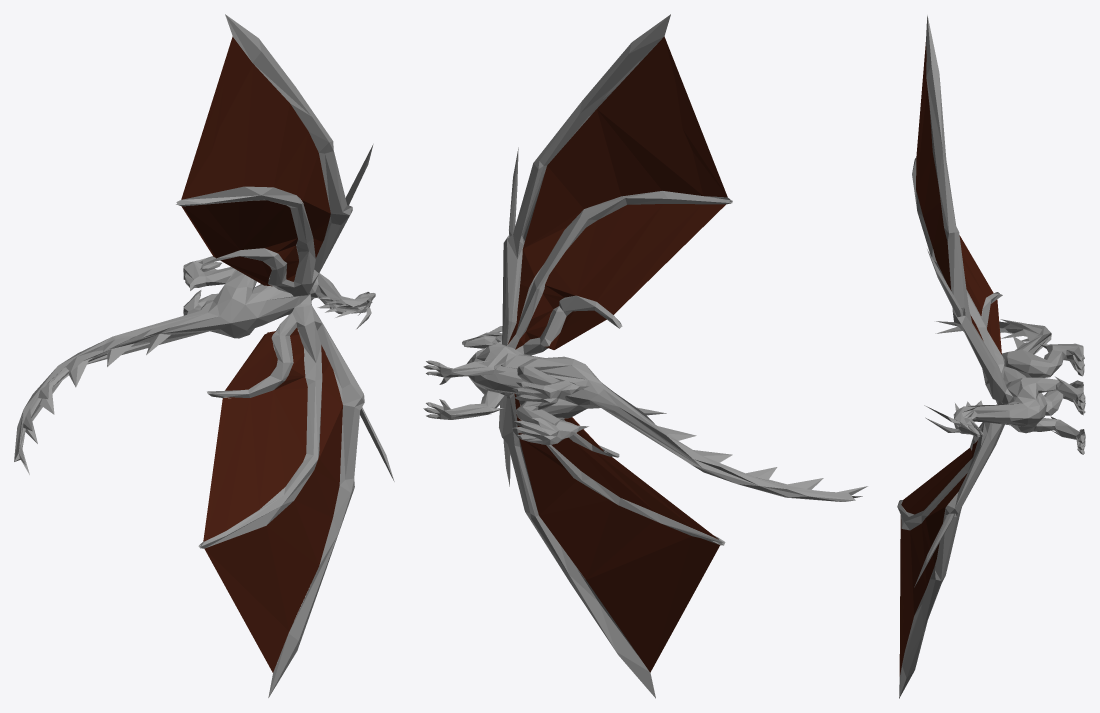
File: Dragon_2.5_For_Animations_000290.obj
3 renders of one model, left to right at view 1: azimuth 30°, elevation 25°; view 2: azimuth 150°, elevation 25°; view 3: azimuth 270°, elevation 25°, orthographic. The views are drawn at different scales.
Parts seen in each view (by area): view 1: Cube_Cube.004; view 2: Cube_Cube.004; view 3: Cube_Cube.004.
Part boxes in pixels (x1,y1,x2,y2): Cube_Cube.004: [14, 14, 394, 697]; Cube_Cube.004: [423, 14, 867, 698]; Cube_Cube.004: [897, 15, 1085, 698].
Size of the model in its own units: 86.05 by 151 by 38.41.
